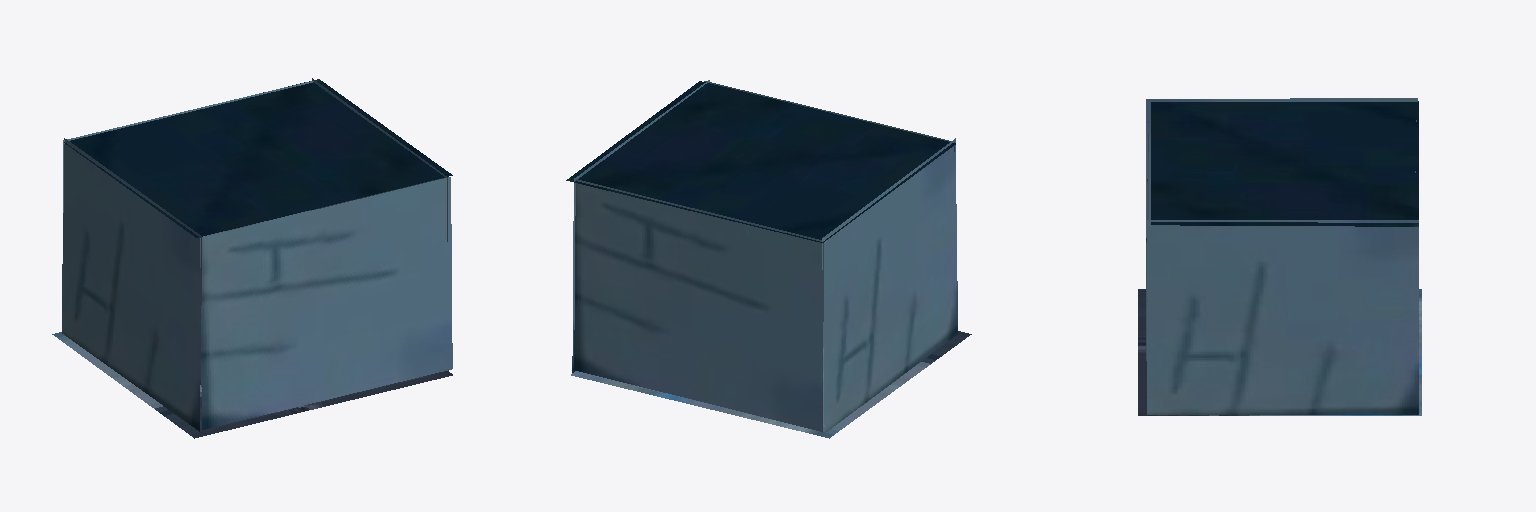
3 views of the same model, side by side, from view 1: azimuth 30°, elevation 25°; view 2: azimuth 150°, elevation 25°; view 3: azimuth 270°, elevation 25° (orthographic).
Parts seen in each view (by area): view 1: polySurface4 polySurface7, pPlane9, polySurface4 polySurface6, pPlane8, polySurface8 polySurface4; view 2: polySurface8 polySurface4, pPlane9, polySurface4 polySurface6, pPlane8, polySurface4 polySurface5; view 3: polySurface4 polySurface5, pPlane9, pPlane8, polySurface4 polySurface6.
Part boxes in pixels (bbox=[...]): polySurface4 polySurface7: bbox=[200, 177, 452, 429]; pPlane9: bbox=[64, 79, 452, 237]; polySurface4 polySurface6: bbox=[62, 138, 201, 431]; pPlane8: bbox=[52, 332, 452, 438]; polySurface8 polySurface4: bbox=[63, 81, 313, 236]; polySurface8 polySurface4: bbox=[574, 179, 823, 431]; pPlane9: bbox=[566, 81, 955, 242]; polySurface4 polySurface6: bbox=[822, 138, 957, 432]; pPlane8: bbox=[571, 331, 971, 438]; polySurface4 polySurface5: bbox=[572, 80, 709, 372]; polySurface4 polySurface5: bbox=[1147, 220, 1418, 414]; pPlane9: bbox=[1151, 101, 1418, 226]; pPlane8: bbox=[1138, 289, 1421, 415]; polySurface4 polySurface6: bbox=[1146, 98, 1417, 237].
Bounding box in the file's own units: 12.02 × 8.48 × 11.17.
3 materials, 3 textured.